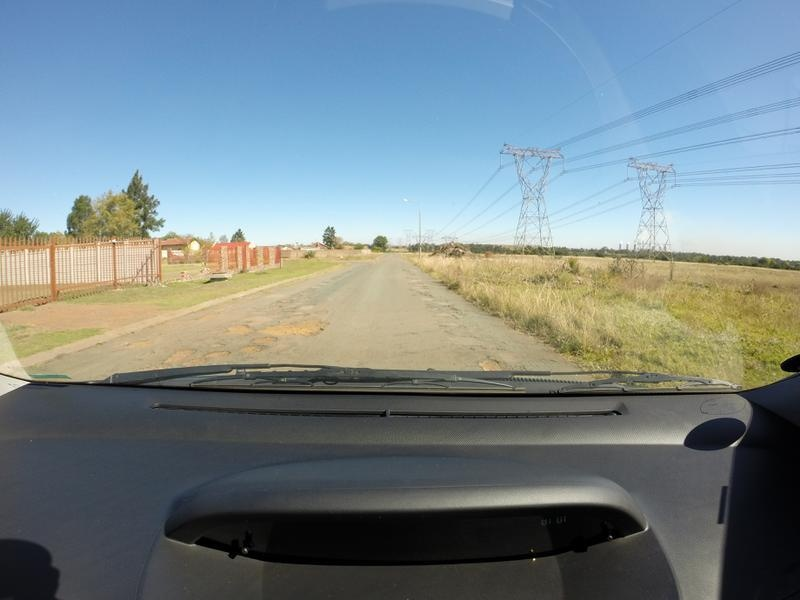pothole: (254, 307, 336, 342), (155, 341, 197, 364), (217, 316, 251, 338), (471, 351, 506, 371), (109, 335, 148, 352), (198, 348, 229, 361), (234, 341, 267, 352)
